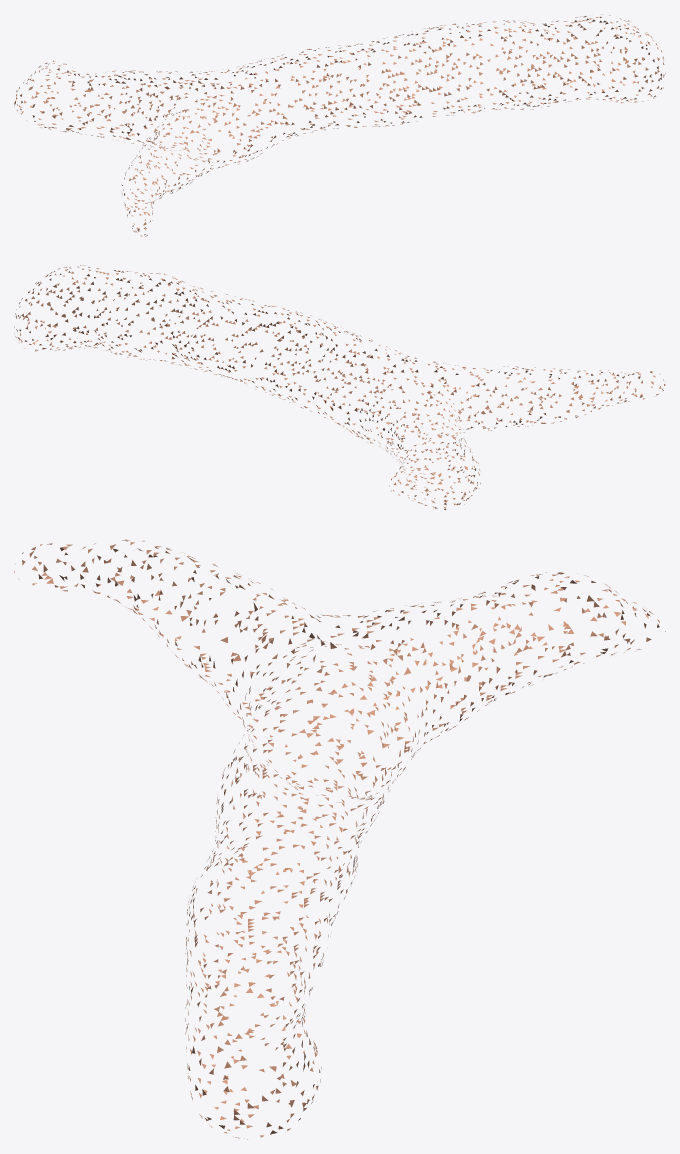
File: morph_004.glb
3 views of the same model, one above another, from view 1: azimuth 30°, elevation 25°; view 2: azimuth 150°, elevation 25°; view 3: azimuth 270°, elevation 25° (orthographic). The views are drawn at different scales.
Size of the model in its own units: 119 by 20.59 by 65.73.
